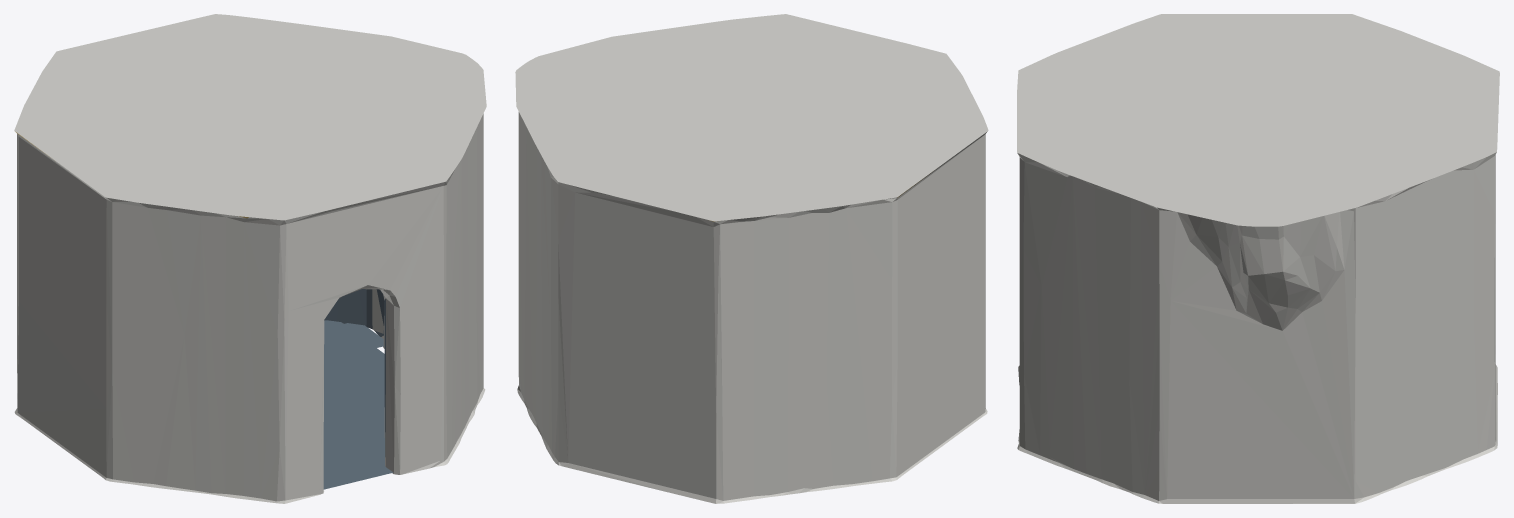
File: etape-1.glb
The picture shows the model from 3 angles, left to right: view 1: azimuth 30°, elevation 25°; view 2: azimuth 150°, elevation 25°; view 3: azimuth 270°, elevation 25°; orthographic projection. The views are drawn at different scales.
Parts seen in each view (by area): view 1: geometry_0; view 2: geometry_0; view 3: geometry_0.
Part boxes in pixels (left/top/right/bottom): geometry_0: left=14, top=14, right=486, bottom=503; geometry_0: left=515, top=14, right=988, bottom=503; geometry_0: left=1017, top=14, right=1499, bottom=503.
Bounding box in the file's own units: 0.7844 × 0.5097 × 0.7523.
